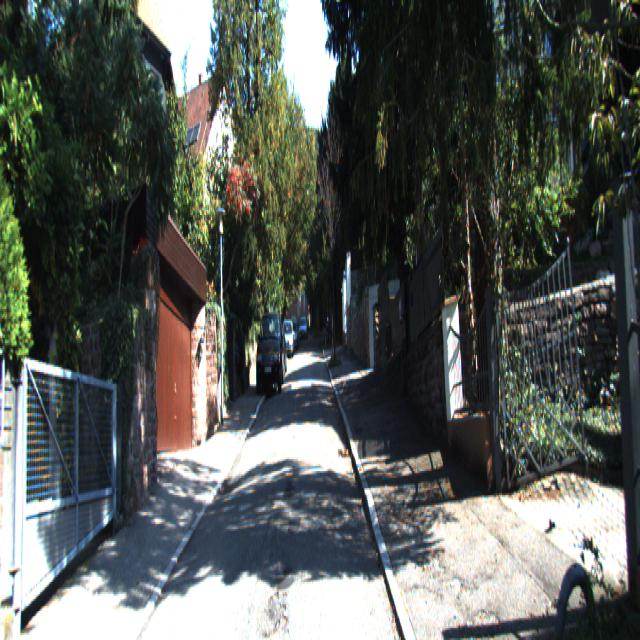Car: (254, 308, 284, 399), (282, 318, 295, 359)
